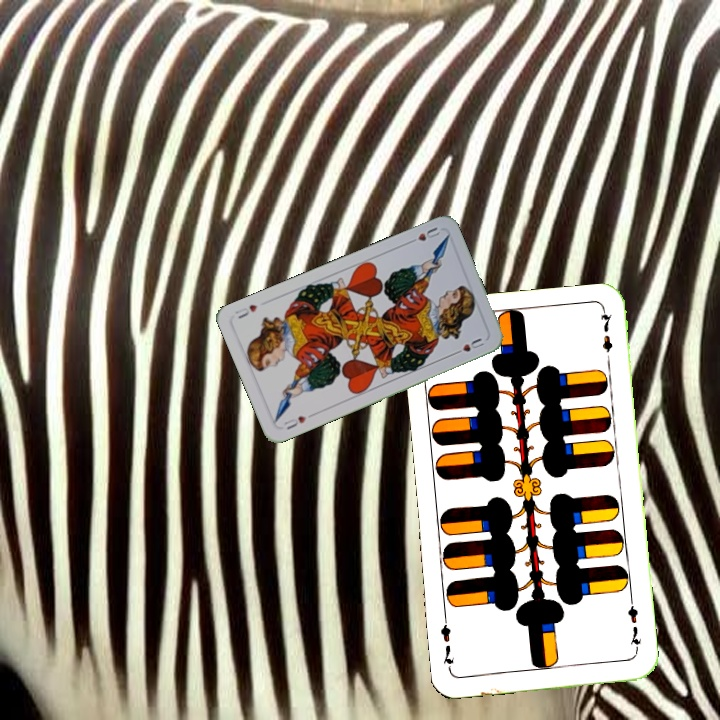E7: (624, 596, 645, 656)
HU: (404, 223, 443, 246), (280, 412, 309, 432)
